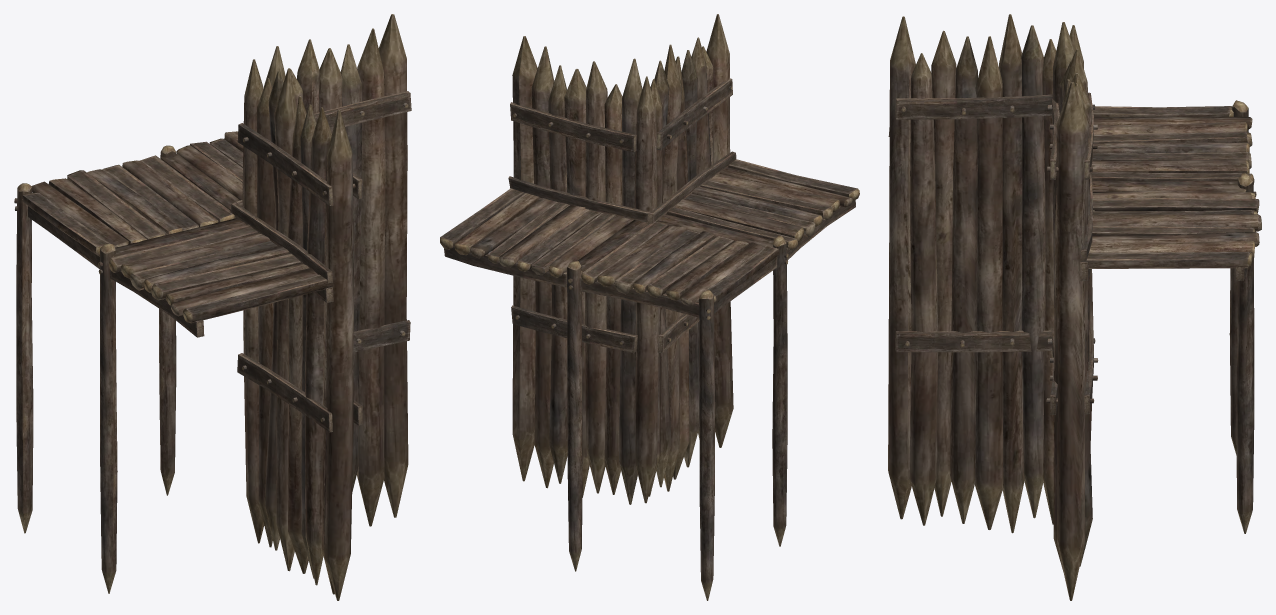
Rendered from jav_struc_def_log_t1_wall_crnrout_rampart-transformed.glb.
The picture shows the model from 3 angles, left to right: view 1: azimuth 30°, elevation 25°; view 2: azimuth 150°, elevation 25°; view 3: azimuth 270°, elevation 25°; orthographic projection. The views are drawn at different scales.
Visible parts, largest first — view 1: default; view 2: default; view 3: default.
Part boxes in pixels (box(x1,y1,x2,y2)): default: box(14, 14, 411, 600); default: box(440, 14, 859, 600); default: box(888, 14, 1261, 600).
Bounding box in the file's own units: 4.11 × 6.45 × 4.18.
Materials: 1 (1 with a texture image).
